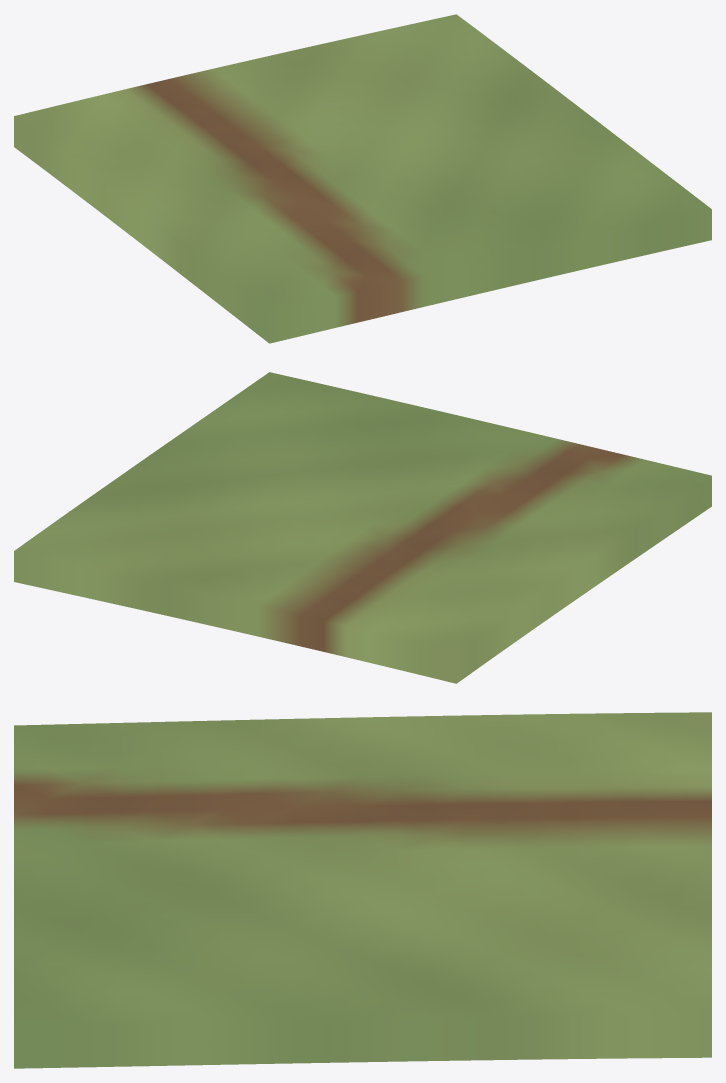
3 views of the same model, one above another, from view 1: azimuth 30°, elevation 25°; view 2: azimuth 150°, elevation 25°; view 3: azimuth 270°, elevation 25° (orthographic). The views are drawn at different scales.
Parts seen in each view (by area): view 1: terrain; view 2: terrain; view 3: terrain.
Boxes of the visible parts, x1,y1,x2,y2 form: terrain: [14, 14, 711, 343]; terrain: [14, 372, 711, 683]; terrain: [14, 712, 711, 1068].
Bounding box in the file's own units: 30 × 2.91 × 30.
